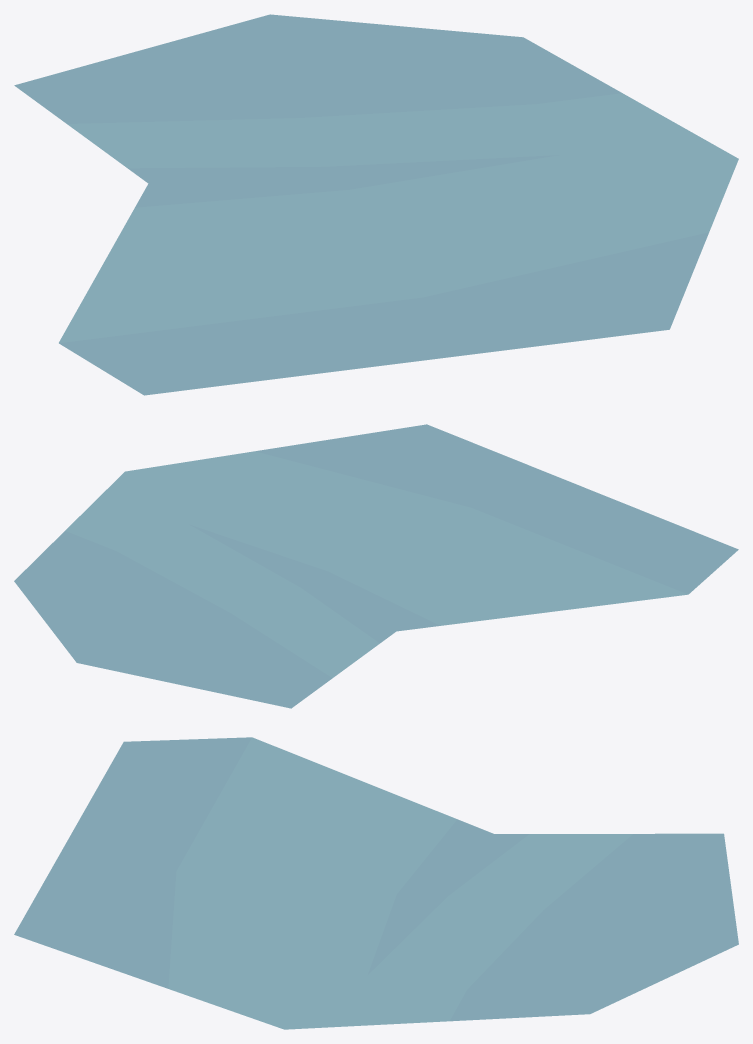
Rendered from WelcomeIcebergWater.glb.
3 renders of one model, top to bottom at view 1: azimuth 30°, elevation 25°; view 2: azimuth 150°, elevation 25°; view 3: azimuth 270°, elevation 25°, orthographic. The views are drawn at different scales.
Visible parts, largest first — view 1: WelcomeIcebergWater; view 2: WelcomeIcebergWater; view 3: WelcomeIcebergWater.
Part boxes in pixels (x1,y1,x2,y2): WelcomeIcebergWater: (14, 14, 738, 395); WelcomeIcebergWater: (14, 424, 738, 708); WelcomeIcebergWater: (14, 737, 738, 1029).
Bounding box in the file's own units: 3.24 × 7.15e-07 × 3.4.
